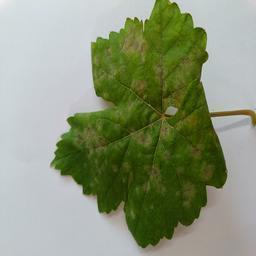Powdery-Mildew: (161, 102, 198, 156), (155, 55, 198, 98), (183, 144, 216, 186), (91, 46, 122, 79), (80, 123, 107, 152), (146, 162, 165, 193), (175, 185, 198, 206), (131, 128, 155, 148), (131, 78, 151, 94)
